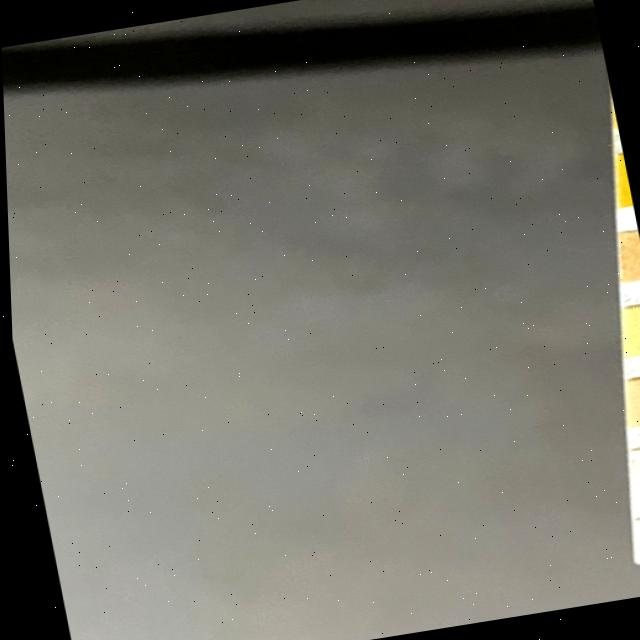Blood: (614, 156, 630, 204)
Leukocytes: (631, 512, 640, 559)
Nitrite: (625, 442, 640, 492)
Protein: (617, 304, 640, 353)
Urobilinogen: (623, 373, 640, 424)
pH: (617, 231, 640, 279)
